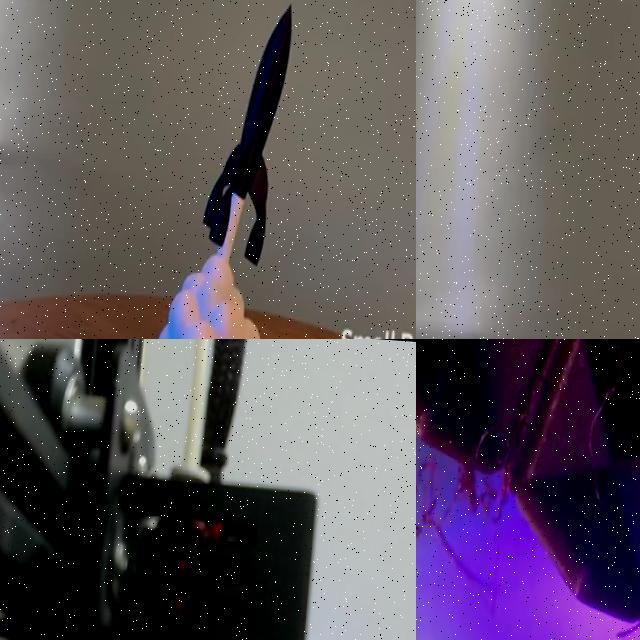spaghetti: (416, 339, 599, 615), (577, 339, 640, 640)
